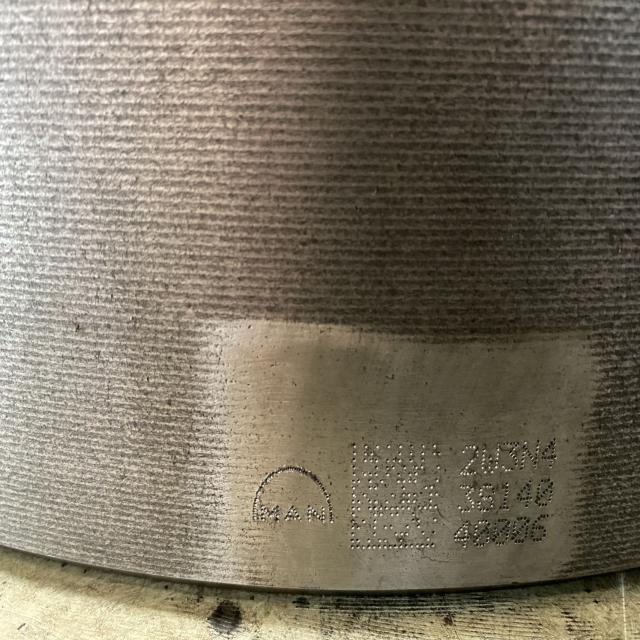dmc: (351, 444, 441, 549)
